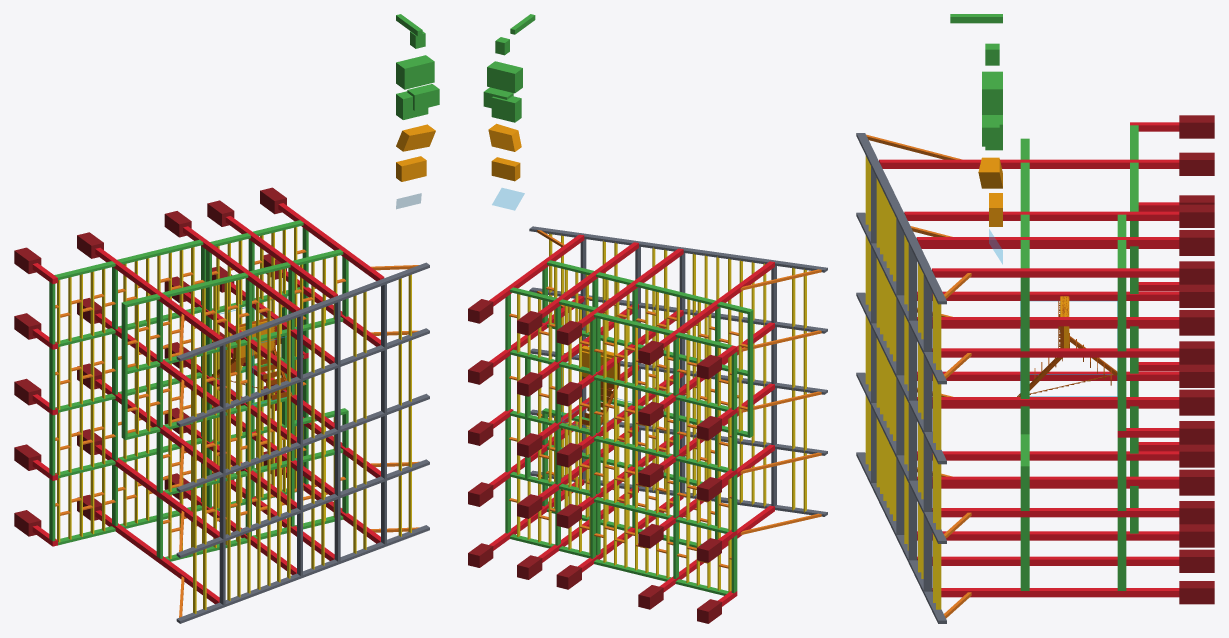
Rendered from tinker.obj.
3 renders of one model, left to right at view 1: azimuth 30°, elevation 25°; view 2: azimuth 150°, elevation 25°; view 3: azimuth 270°, elevation 25°, orthographic. The views are drawn at different scales.
Visible parts, largest first — view 1: obj_1, obj_420, obj_2, obj_20, obj_15, obj_3, obj_421, obj_4, obj_11, obj_6, obj_419, obj_7 (+9 smaller); view 2: obj_1, obj_420, obj_2, obj_421, obj_3, obj_4, obj_419, obj_20, obj_15, obj_7, obj_21, obj_12 (+11 smaller); view 3: obj_1, obj_2, obj_3, obj_4, obj_9, obj_18, obj_23, obj_13, obj_17, obj_22, obj_8, obj_16 (+53 smaller).
Part boxes in pixels (x1,y1,x2,y2): obj_1: (95,247,222,341); obj_420: (396,84,439,119); obj_2: (183,226,300,312); obj_20: (95,510,219,603); obj_15: (95,444,219,538); obj_3: (225,216,337,298); obj_421: (396,55,434,89); obj_4: (278,203,384,280); obj_11: (95,379,219,472); obj_6: (95,313,219,407); obj_419: (396,124,435,151); obj_7: (183,292,296,378); obj_1: (659,261,774,347); obj_420: (483,87,521,122); obj_2: (578,248,683,327); obj_421: (487,61,522,93); obj_3: (538,242,638,318); obj_4: (489,234,584,306); obj_419: (488,123,521,151); obj_20: (659,505,774,592); obj_15: (659,444,774,531); obj_7: (578,310,683,389); obj_21: (578,496,683,572); obj_12: (578,372,683,450); obj_1: (879,159,1179,168); obj_2: (904,211,1179,220); obj_3: (916,237,1179,246); obj_4: (932,268,1179,277); obj_9: (932,348,1179,357); obj_18: (932,508,1179,517); obj_23: (932,588,1179,597); obj_13: (917,397,1179,406); obj_17: (917,476,1179,485); obj_22: (917,556,1179,565); obj_8: (917,317,1179,326); obj_16: (917,451,1179,460).
Bounding box in the file's own units: 132 × 192 × 102.
